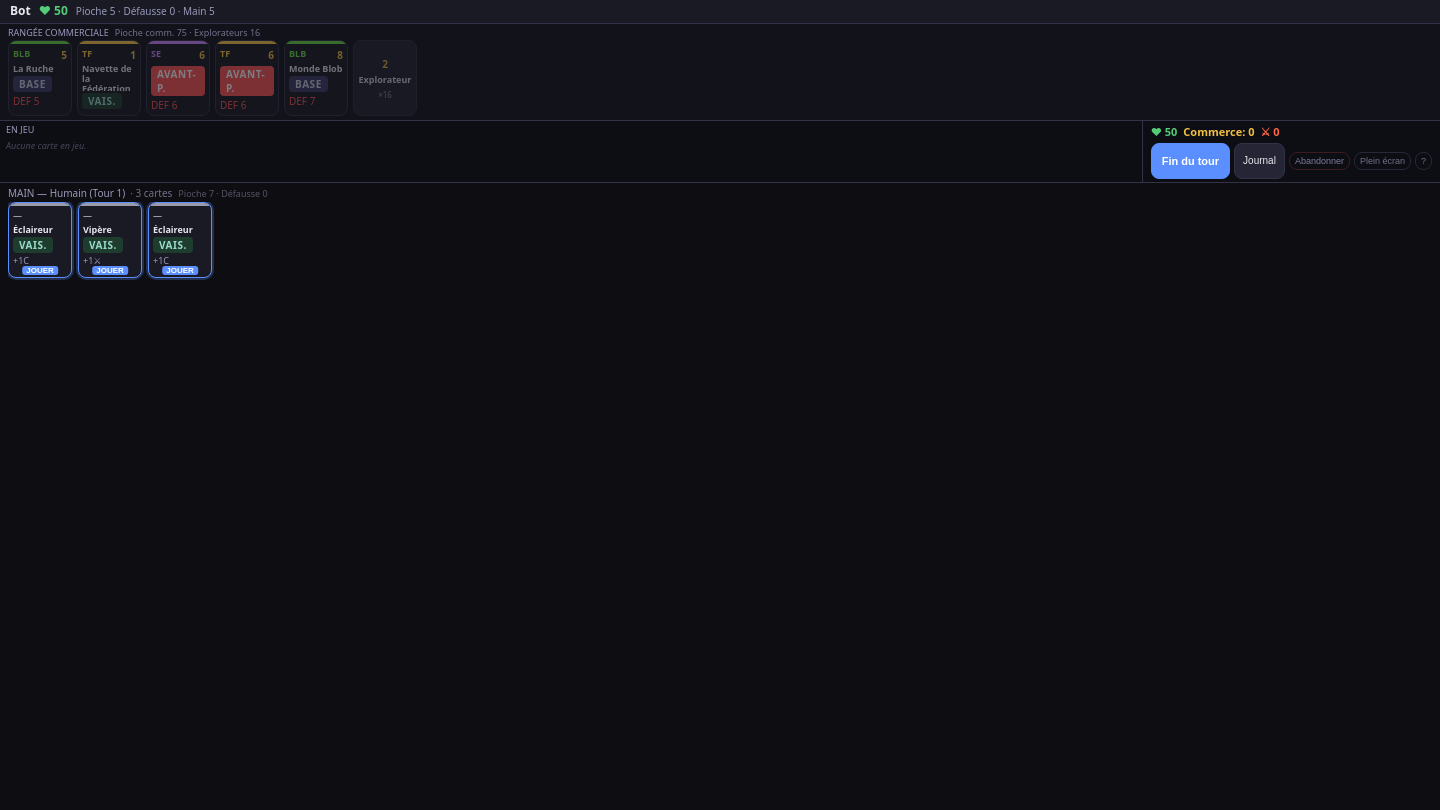
Scenario: PATCH 0054 — A. Bouton glossaire portrait › Clic sur '?' ouvre le panneau glossaire avec le titre
Click the button "?" at (1424,161), box [1415,152,1432,170]
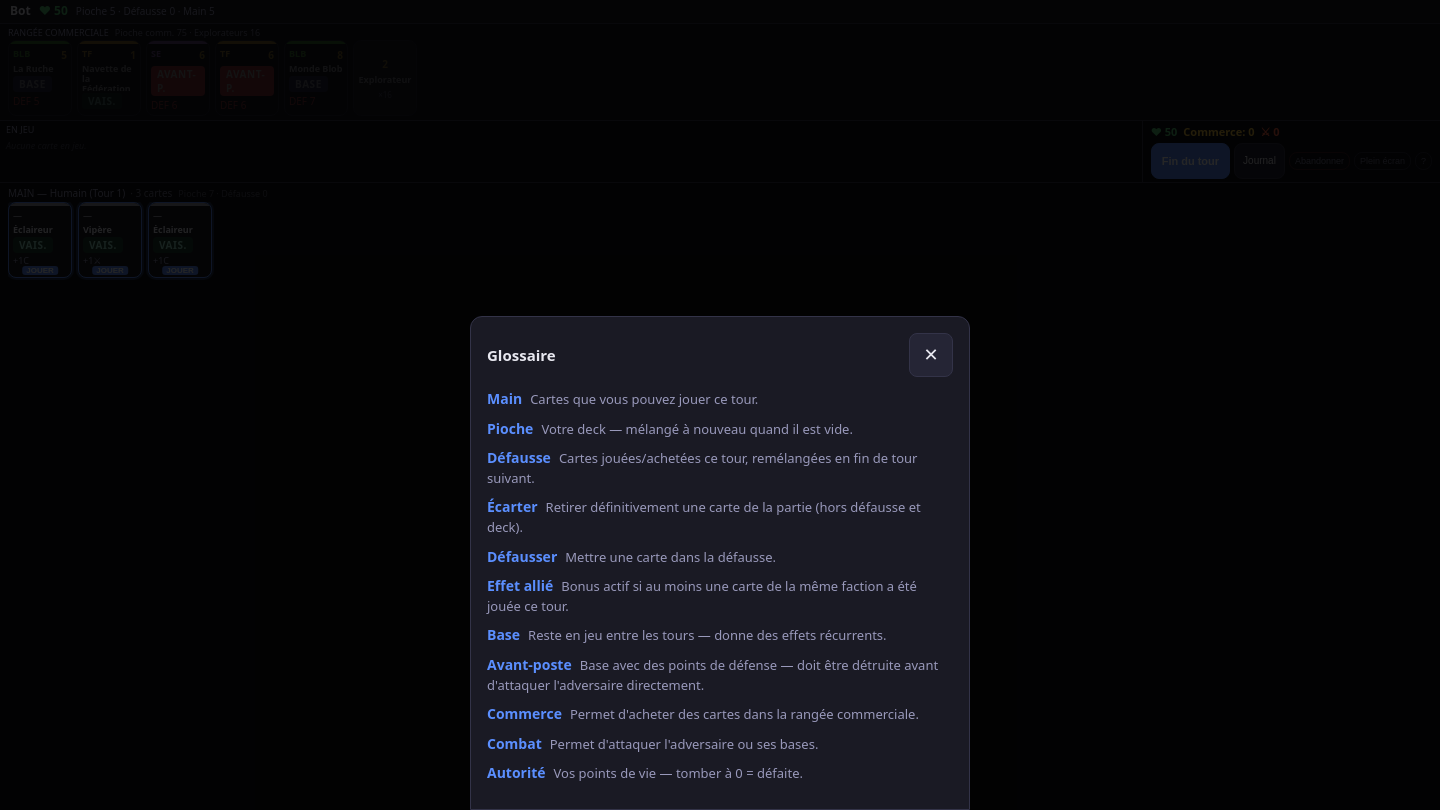
Now the text "Glossaire" is shown, box [487,345,556,366]
